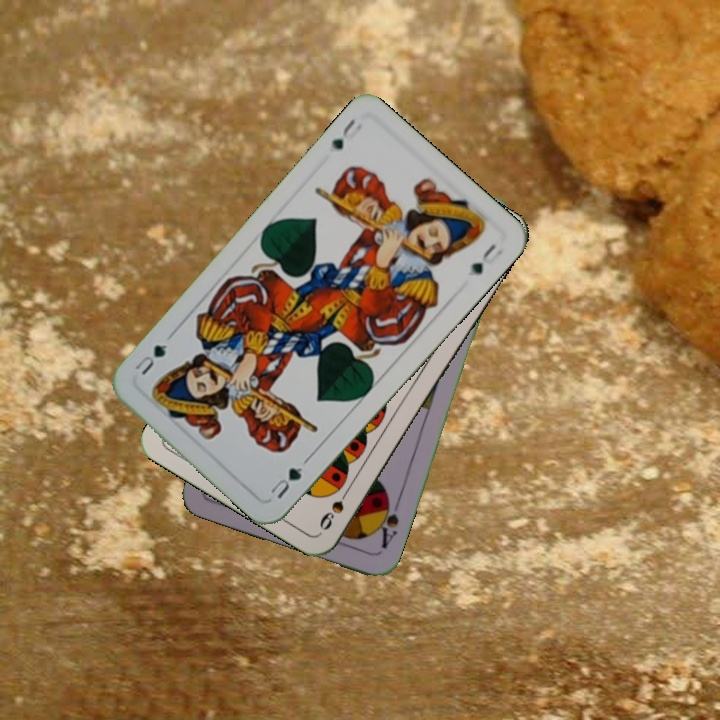GU: (266, 463, 305, 502), (326, 115, 365, 153)
S9: (315, 481, 354, 533)
SA: (371, 493, 402, 552)
